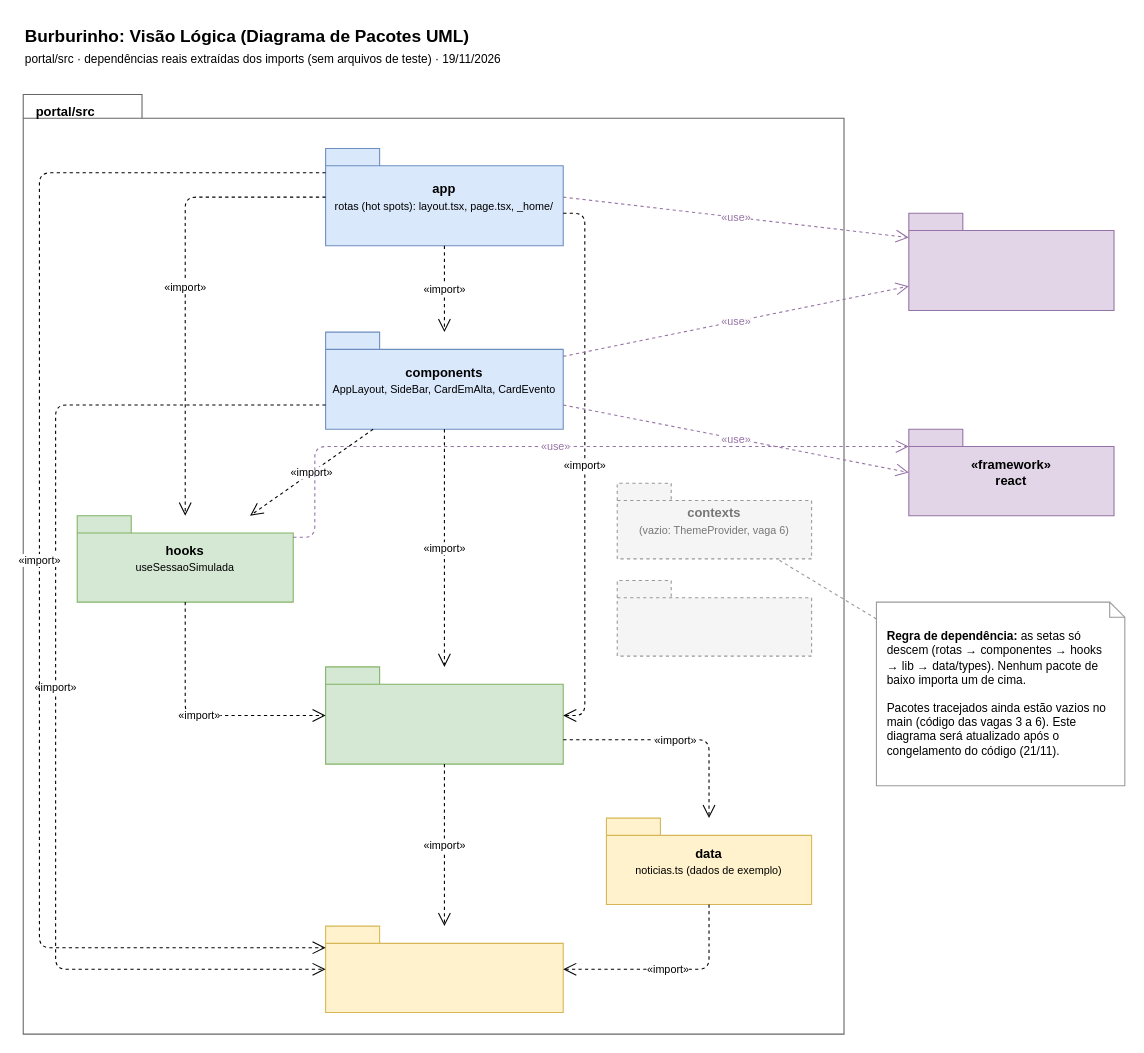
The diagram is 1144 pixels wide and 1053 high, and some of its shapes have lost their labels. The centre of each missing label's shape, as x and y in pixels:
lib repositorioNoticias (Singleton), sessaoSimulada, caminhos: (444,715)
padroes (vazio: GoFs da Entrega 03, vagas 3 a 5): (714,617)
types Noticia, Categoria (contrato): (444,969)
«framework» next link, image, navigation, font: (1011,261)
